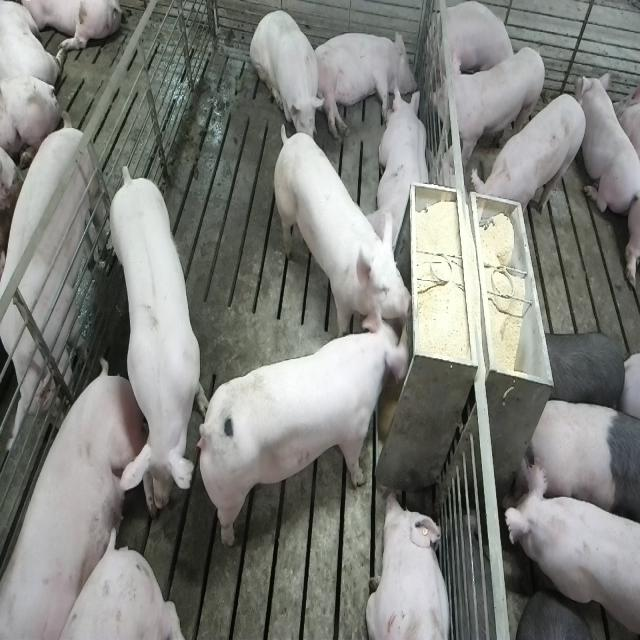Feeding: (198, 312, 409, 548), (270, 128, 411, 346)
Lateral_lying: (3, 360, 163, 636), (311, 28, 418, 139)
Sitting: (250, 8, 326, 151)
Standing: (109, 162, 208, 520), (0, 110, 103, 426), (499, 456, 637, 638), (473, 92, 588, 237), (520, 399, 638, 532)
Sternal_lying: (368, 490, 455, 640), (372, 83, 432, 262), (580, 72, 638, 222), (432, 2, 516, 89)
